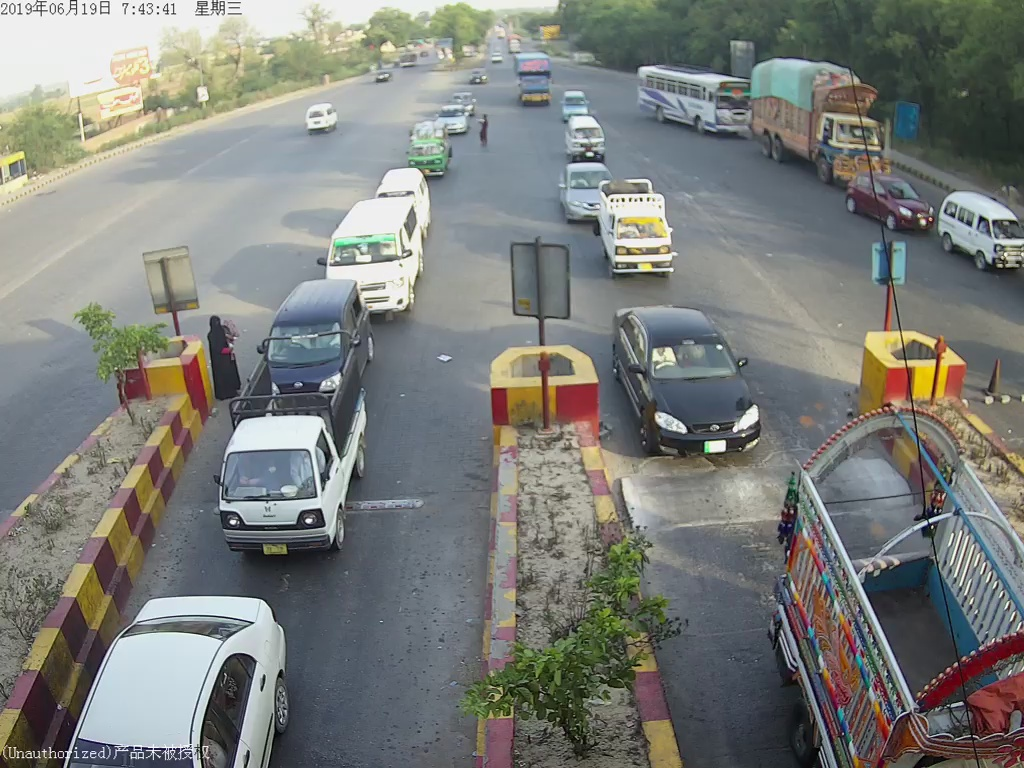Cat-1: (223, 366, 382, 553), (612, 300, 773, 458), (600, 192, 685, 278), (409, 120, 455, 178)
